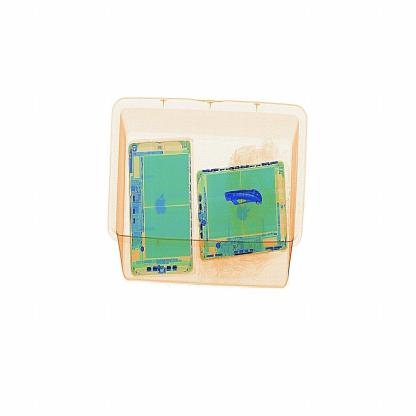knife: (214, 179, 270, 214)
